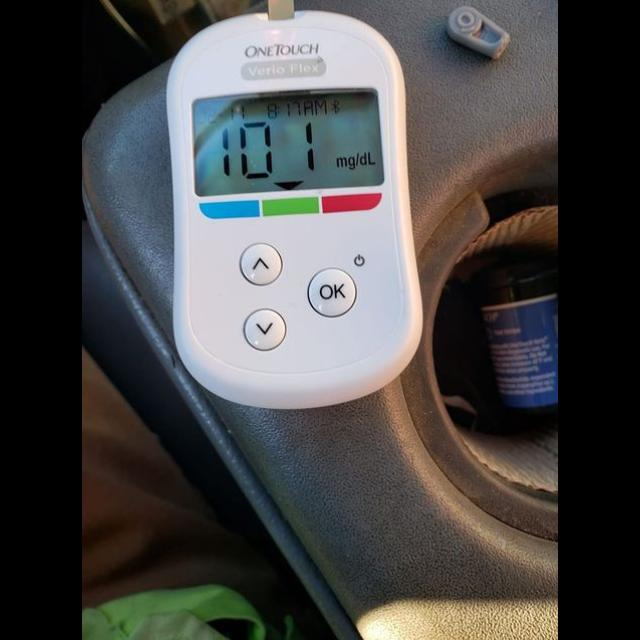Glucose-Meter: (167, 11, 422, 408)
